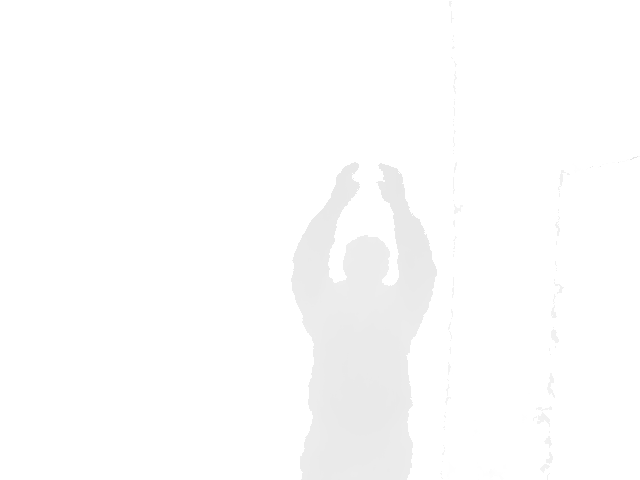hand: (328, 161, 361, 207), (376, 161, 408, 204)
head: (342, 234, 389, 287)
person: (289, 161, 438, 480)
